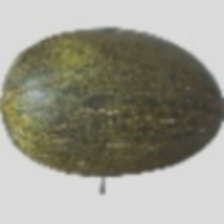honeydew: (10, 16, 193, 190)
